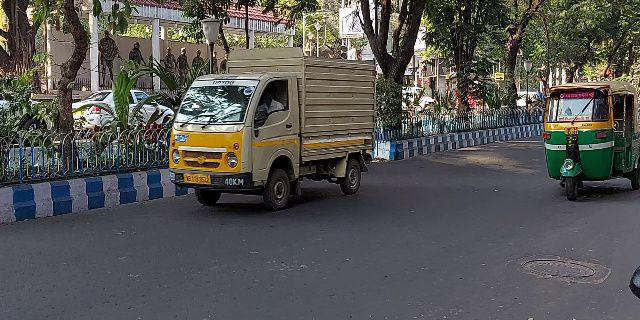Autorickshaw: (538, 79, 640, 200)
Minitruck: (166, 44, 383, 208)
